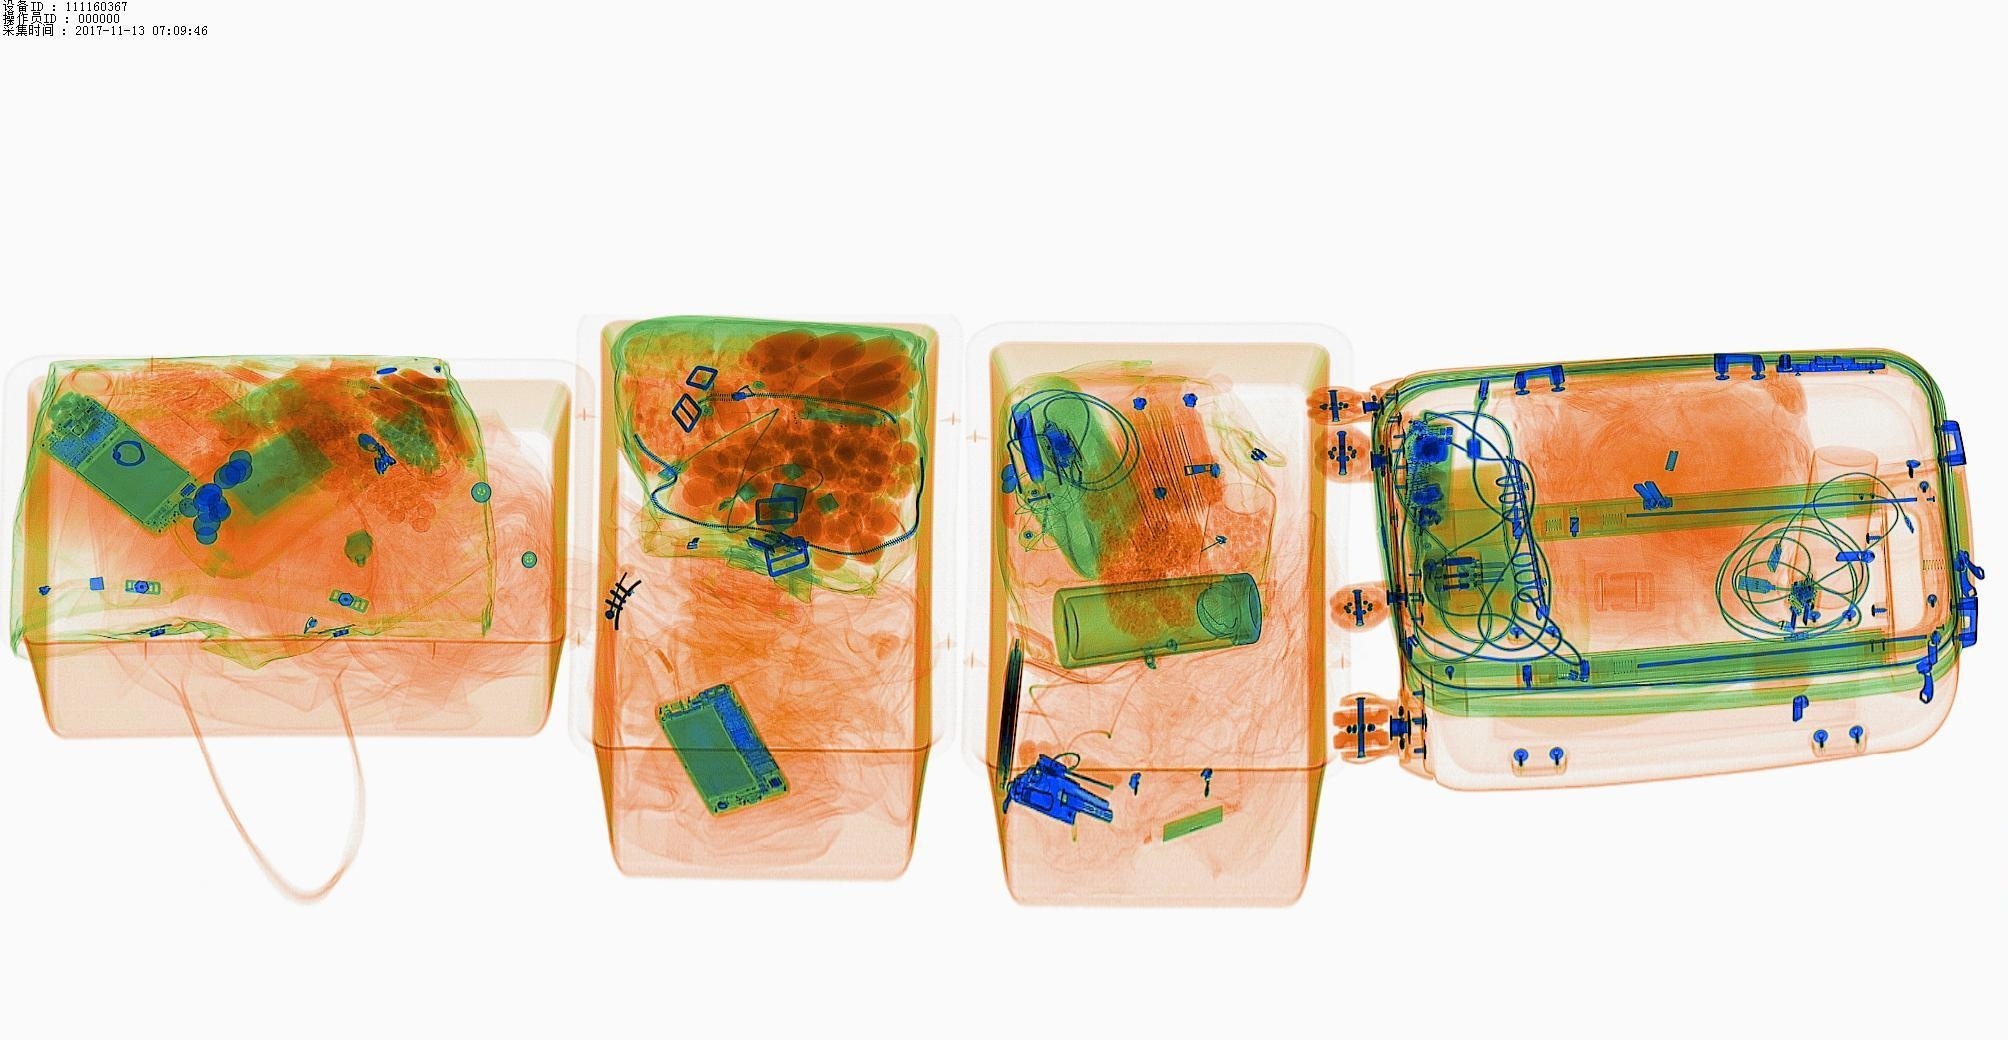coreless: (1005, 631, 1025, 800)
